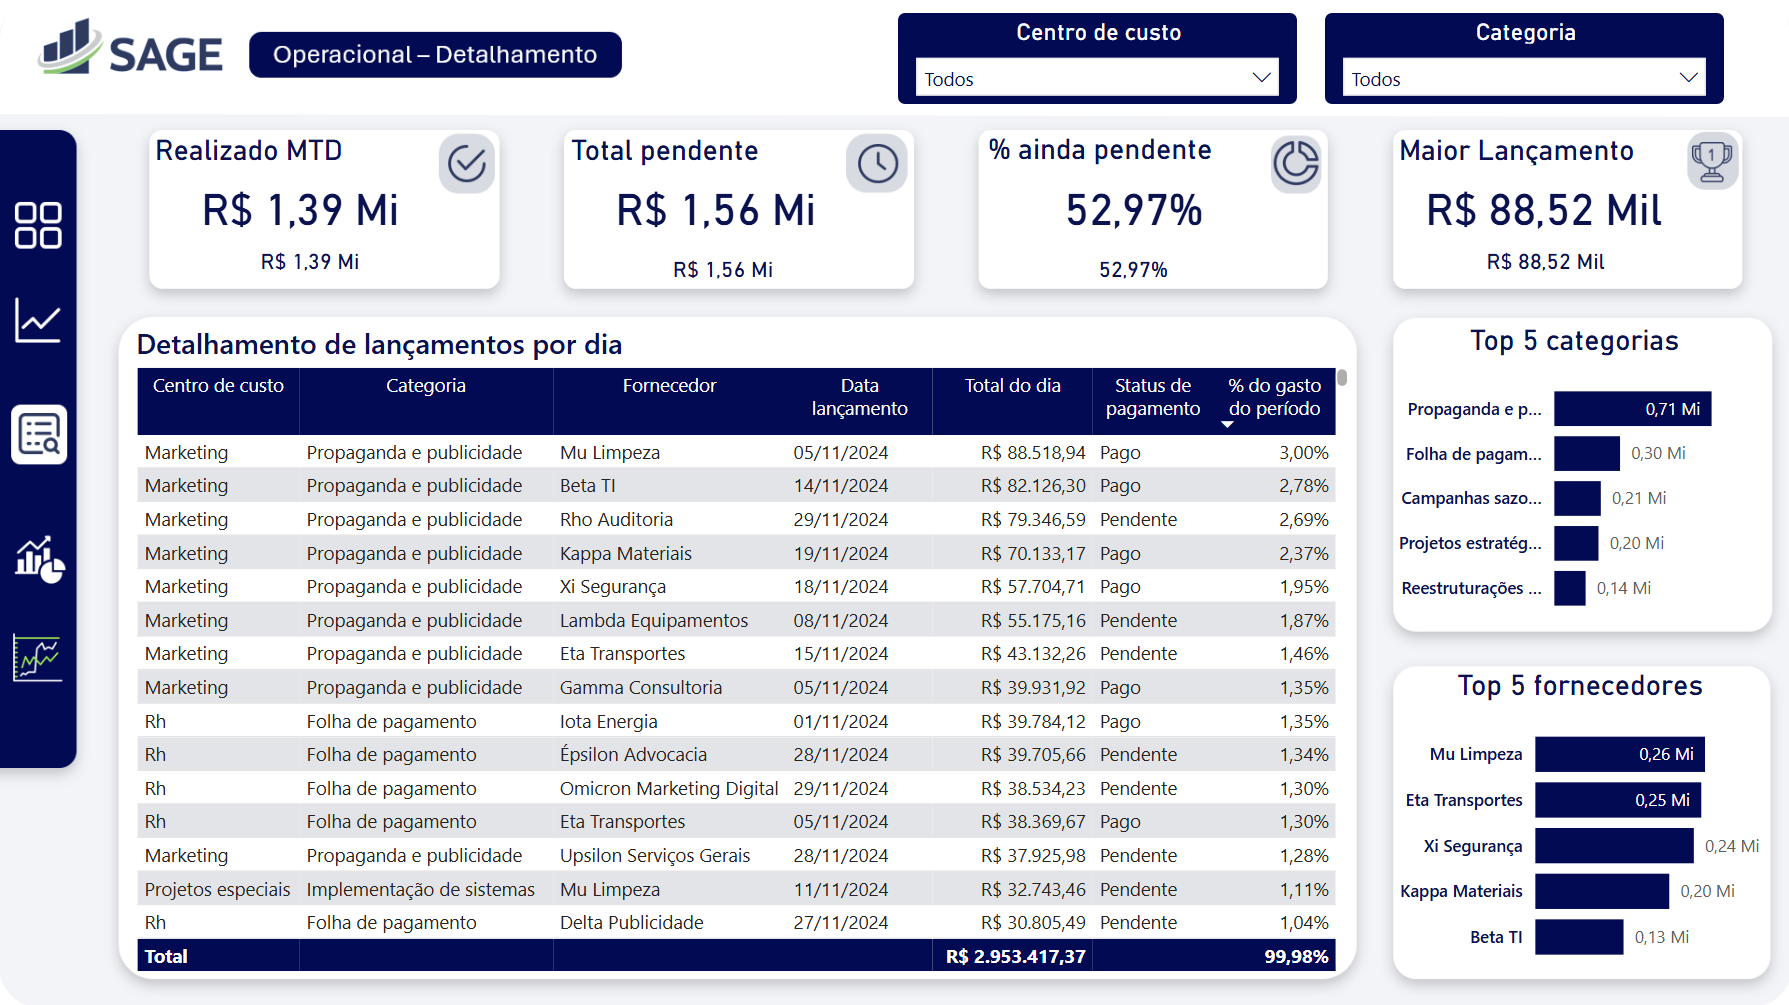

Layout of this report page (visuals, bound fields, positions):
{"tool":"powerbi","page":{"name":"Operacional - Detalhamento","canvas":[1280,720],"ordinal":2},"visuals":[{"type":"card","title":"Realizado MTD","fields":{"Values":["Medidas.Realizado MTD Total"]},"box":[106.7,95.3,217.5,81.8],"z":0},{"type":"card","fields":{"Values":["Medidas.Realizado MTD Total"]},"box":[147.6,171.2,148.6,31.5],"z":1000},{"type":"card","title":"Total pendente","fields":{"Values":["Medidas.Total Pendente"]},"box":[403.9,94.8,217,82.1],"z":2000},{"type":"card","fields":{"Values":["Medidas.Total Pendente"]},"box":[442.7,177.1,148.6,31.5],"z":3000},{"type":"card","title":"% ainda pendente","fields":{"Values":["Medidas.percentual pendente"]},"box":[701.5,94.5,217.4,82.6],"z":4000},{"type":"card","fields":{"Values":["Medidas.Percentual pendente"]},"box":[735.9,177.1,148.6,31.5],"z":5000},{"type":"card","title":"Maior Lançamento","fields":{"Values":["Medidas.Maior Lançamento"]},"box":[994.6,94.8,217,82.1],"z":6000},{"type":"card","fields":{"Values":["Medidas.Maior Lançamento"]},"box":[1030.9,171.8,148.2,30.9],"z":7000},{"type":"tableEx","title":"Detalhamento de lançamentos por dia","fields":{"Values":["vw_gold_lancamentos_consolidados_dia.centro_de_custo","vw_gold_lancamentos_consolidados_dia.categoria","vw_gold_lancamentos_consolidados_dia.fornecedor","vw_gold_lancamentos_consolidados_dia.data_lancamento","Sum(vw_gold_lancamentos_consolidados_dia.total_do_dia)","vw_gold_lancamentos_consolidados_dia.status_simulado","Sum(vw_gold_lancamentos_consolidados_dia.Partipação no mês)"]},"box":[93.2,230.9,876.1,468.1],"z":8000},{"type":"barChart","title":"Top 5 fornecedores","fields":{"Category":["dim_fornecedores.nome_forn"],"Y":["Medidas.Realizado total"]},"box":[994.2,477.4,270.3,223.7],"z":9000},{"type":"barChart","title":"Top 5 categorias","fields":{"Category":["dim_categoria.nome_categoria"],"Y":["Medidas.Realizado total"]},"box":[982.8,230.9,284.8,220.6],"z":10000},{"type":"slicer","title":"Centro de custo","fields":{"Values":["dim_centro_de_custo.nome_centro_de_custo"]},"box":[642.3,9.2,285.4,65.4],"z":11000},{"type":"slicer","title":"Categoria","fields":{"Values":["dim_categoria.nome_categoria"]},"box":[946.9,9.2,285.4,65.4],"z":12000},{"type":"actionButton","box":[5.9,208.4,44,39.8],"z":13000},{"type":"actionButton","box":[5.9,378.6,44,39.8],"z":14000},{"type":"actionButton","box":[5.9,453.2,44,39.8],"z":15000},{"type":"actionButton","box":[5,140.4,44.6,39.6],"z":16000}]}

Visuals, with their boxes on the page's 1280x720 design canvas (x1, y1, x2, y2). These are canvas units, not pixel positions in the 1789x1005 screenshot, which may show the page scaled, cropped or inside an application window:
"Realizado MTD" card: x1=107 y1=95 x2=324 y2=177
card - Medidas.Realizado MTD Total: x1=148 y1=171 x2=296 y2=203
"Total pendente" card: x1=404 y1=95 x2=621 y2=177
card - Medidas.Total Pendente: x1=443 y1=177 x2=591 y2=209
"% ainda pendente" card: x1=702 y1=94 x2=919 y2=177
card - Medidas.Percentual pendente: x1=736 y1=177 x2=884 y2=209
"Maior Lançamento" card: x1=995 y1=95 x2=1212 y2=177
card - Medidas.Maior Lançamento: x1=1031 y1=172 x2=1179 y2=203
"Detalhamento de lançamentos por dia" tableEx: x1=93 y1=231 x2=969 y2=699
"Top 5 fornecedores" barChart: x1=994 y1=477 x2=1264 y2=701
"Top 5 categorias" barChart: x1=983 y1=231 x2=1268 y2=452
"Centro de custo" slicer: x1=642 y1=9 x2=928 y2=75
"Categoria" slicer: x1=947 y1=9 x2=1232 y2=75
actionButton: x1=6 y1=208 x2=50 y2=248
actionButton: x1=6 y1=379 x2=50 y2=418
actionButton: x1=6 y1=453 x2=50 y2=493
actionButton: x1=5 y1=140 x2=50 y2=180
